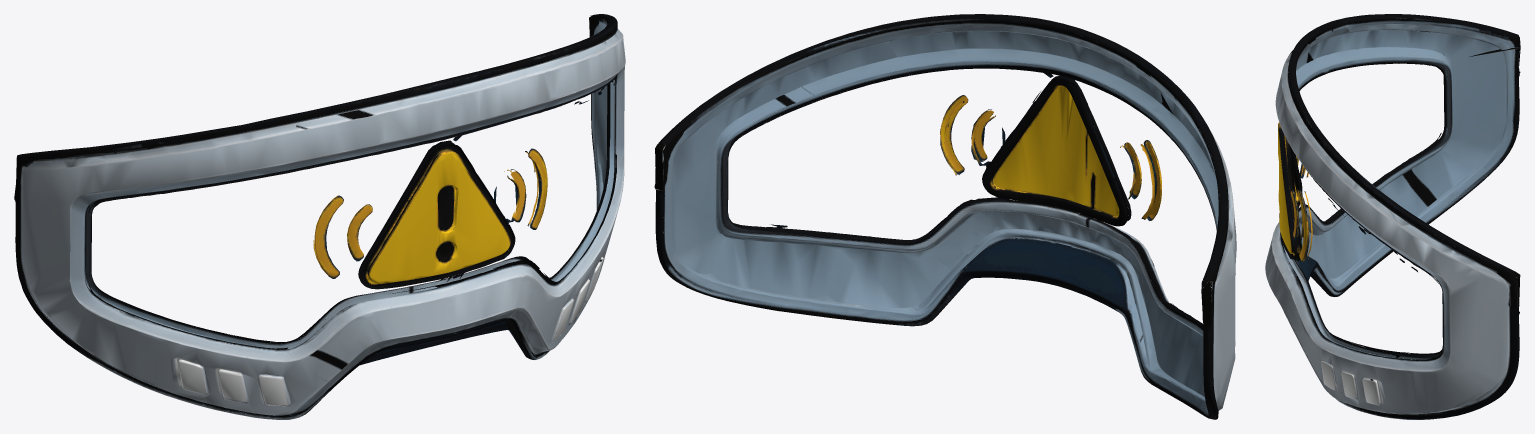
The model's file is watch-sense-final-cutout-shrunk.glb.
3 views of the same model, side by side, from view 1: azimuth 30°, elevation 25°; view 2: azimuth 150°, elevation 25°; view 3: azimuth 270°, elevation 25° (orthographic). The views are drawn at different scales.
Parts seen in each view (by area): view 1: node_0; view 2: node_0; view 3: node_0.
Part boxes in pixels (x1,y1,x2,y2): node_0: (14, 14, 625, 419); node_0: (654, 14, 1236, 419); node_0: (1265, 14, 1520, 419).
Size of the model in its own units: 0.5404 by 0.2897 by 0.2406.
Materials: 1 (1 with a texture image).
